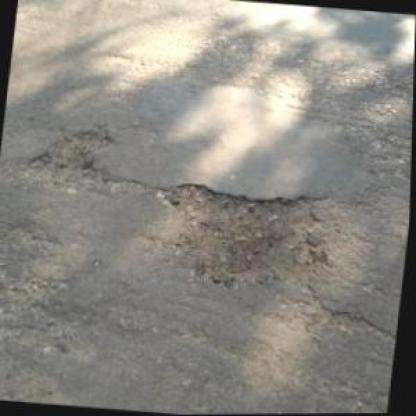pothole: (161, 176, 344, 302), (22, 121, 118, 198)
